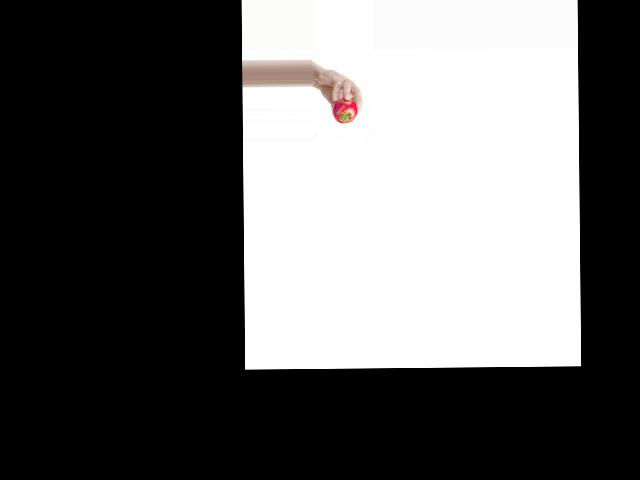tomato: (332, 98, 357, 124)
